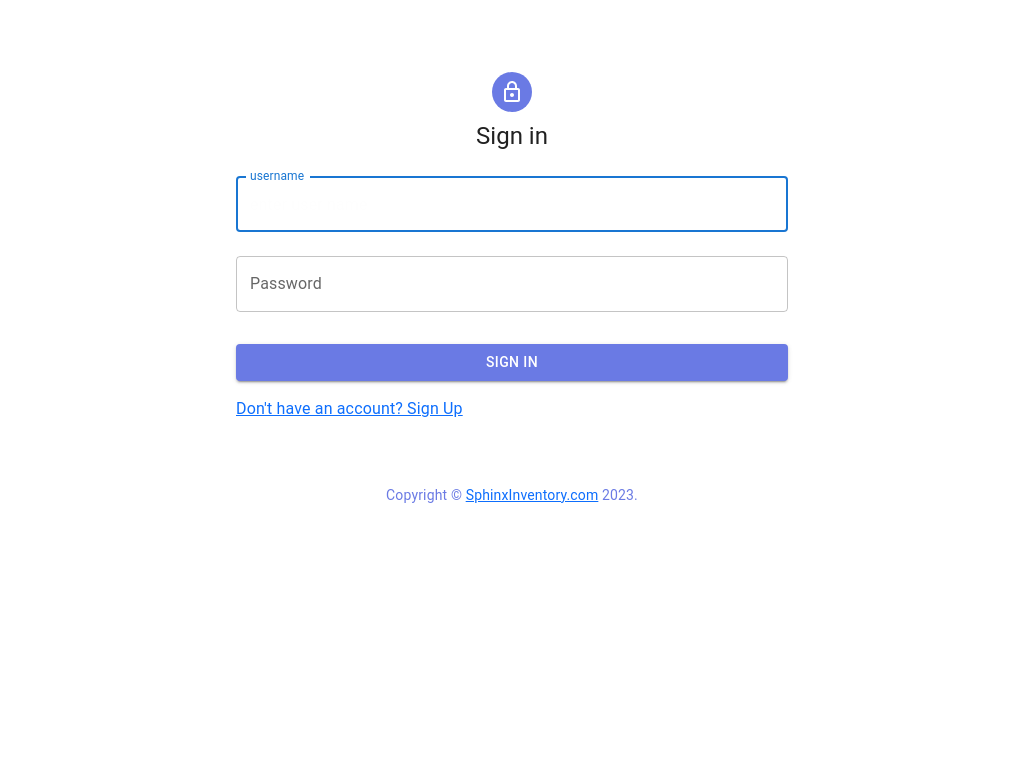
Test: SignIn › should show alert when username is not entered
Click the button "Sign In" at (512, 362), box [236,344,788,380]
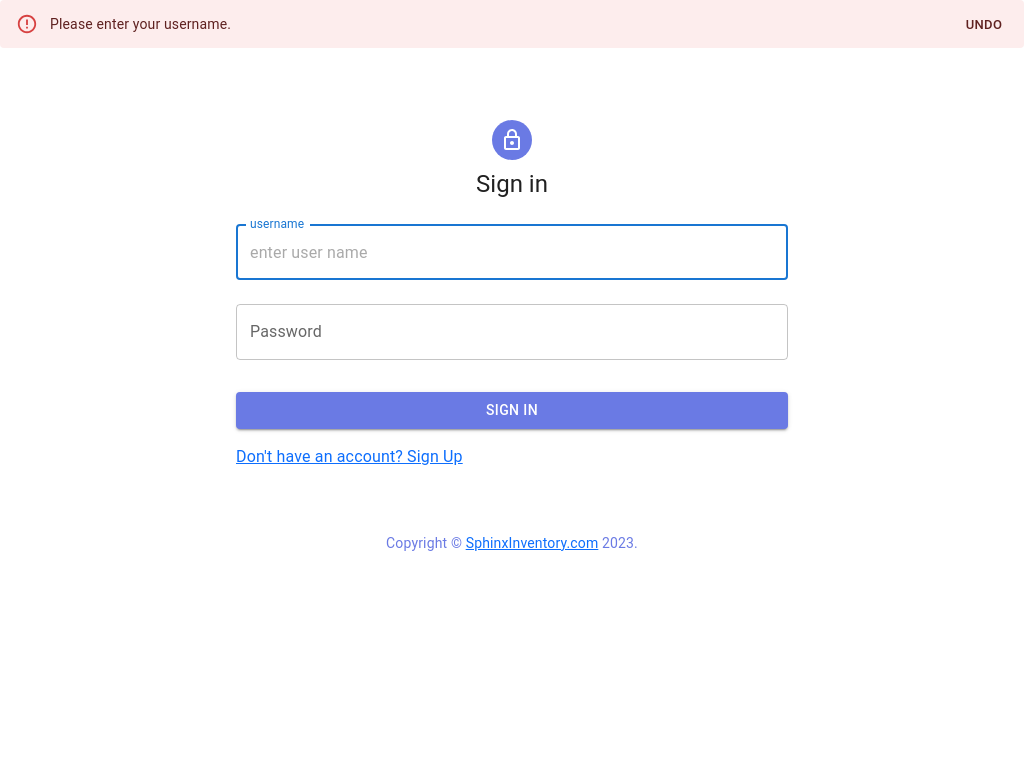
Now the text "Please enter your username." is shown, box [50,16,231,32]
